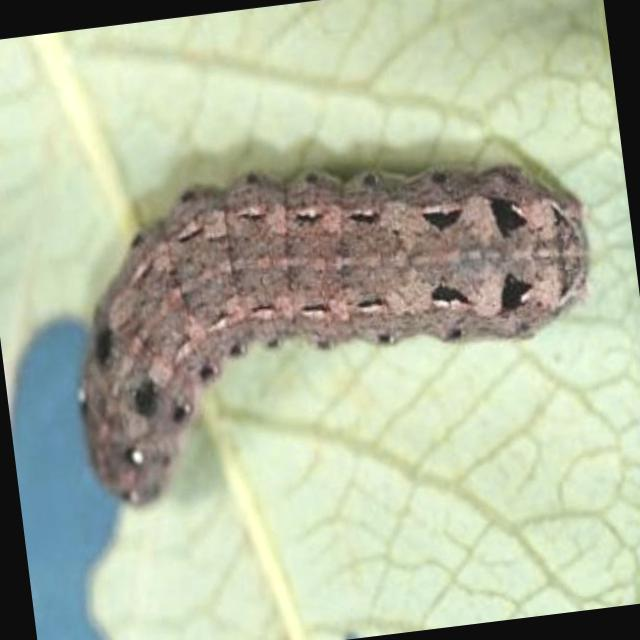Tobacco cutworm: (14, 46, 640, 579)
